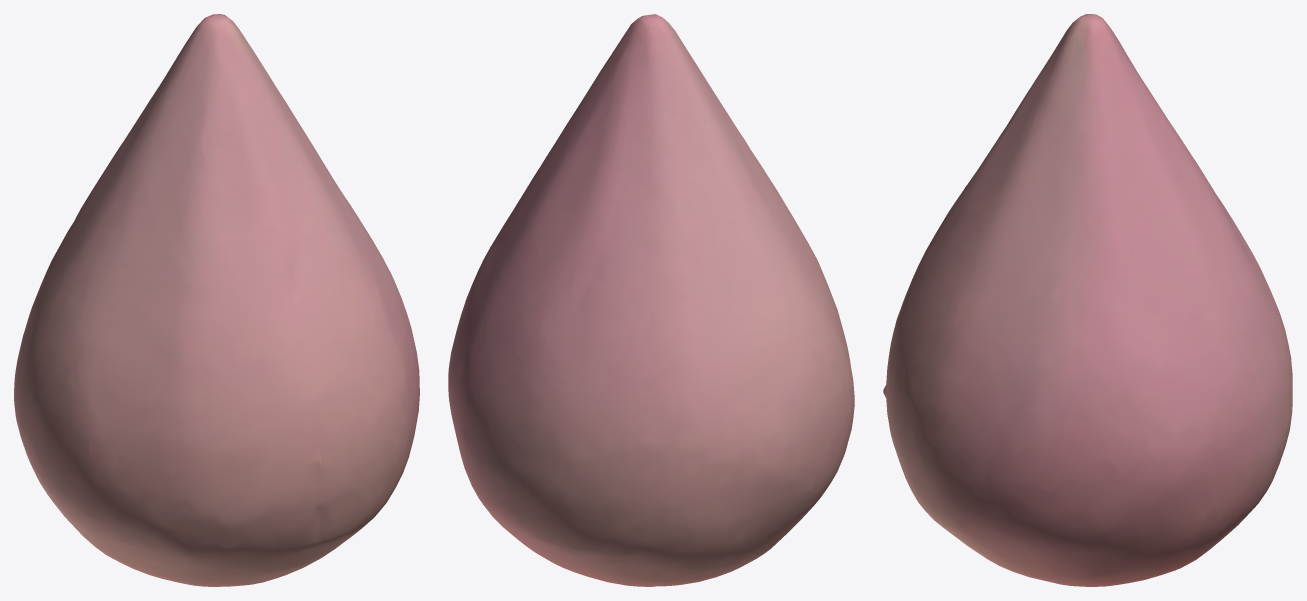
File: teardrop.glb
3 renders of one model, left to right at view 1: azimuth 30°, elevation 25°; view 2: azimuth 150°, elevation 25°; view 3: azimuth 270°, elevation 25°, orthographic.
Parts seen in each view (by area): view 1: tripo_node_6fcde0c1-b581-408c-b801-60b6c3b851ea; view 2: tripo_node_6fcde0c1-b581-408c-b801-60b6c3b851ea; view 3: tripo_node_6fcde0c1-b581-408c-b801-60b6c3b851ea.
Part boxes in pixels (box(x1,y1,x2,y2)): tripo_node_6fcde0c1-b581-408c-b801-60b6c3b851ea: box(14, 14, 419, 586); tripo_node_6fcde0c1-b581-408c-b801-60b6c3b851ea: box(448, 14, 854, 586); tripo_node_6fcde0c1-b581-408c-b801-60b6c3b851ea: box(883, 14, 1292, 586).
Bounding box in the file's own units: 0.6751 × 1 × 0.6784.
1 material, 1 textured.
